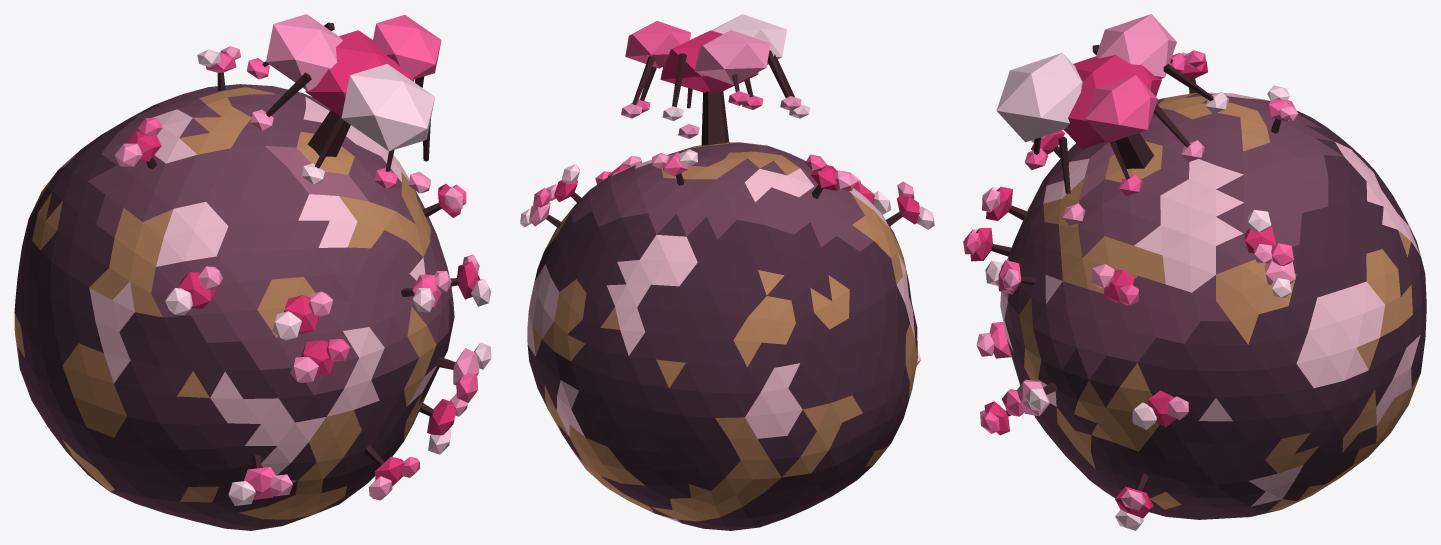
Rendered from Sakura_07.fbx.
The picture shows the model from 3 angles, left to right: view 1: azimuth 30°, elevation 25°; view 2: azimuth 150°, elevation 25°; view 3: azimuth 270°, elevation 25°; orthographic projection. The views are drawn at different scales.
Visible parts, largest first — view 1: Sakura_07; view 2: Sakura_07; view 3: Sakura_07.
Boxes of the visible parts, x1,y1,x2,y2 form: Sakura_07: [14, 14, 491, 530]; Sakura_07: [520, 14, 934, 530]; Sakura_07: [963, 14, 1426, 530].
Size of the model in its own units: 6.57 by 7.63 by 6.53.
1 material, 1 textured.
